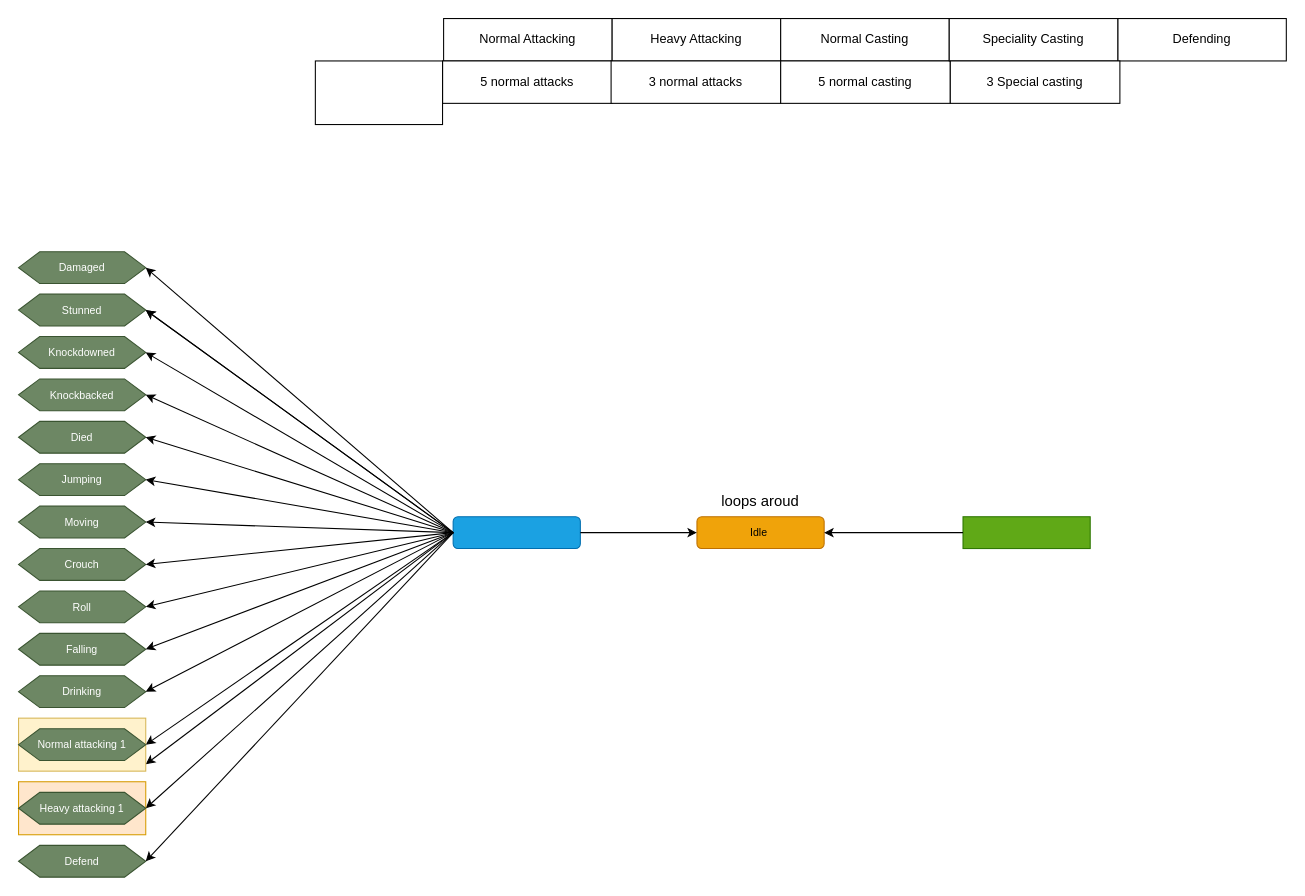
Some shapes in this 1305 by 896 pixel diagram are drawn without their labels. The centre of each missing label's shape, as x and y in pixels:
Any state: point (516, 532)
Entry: point (1026, 532)
